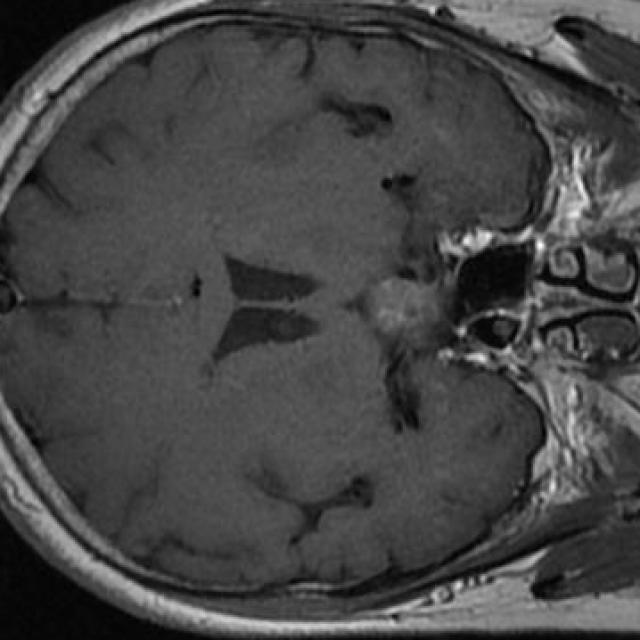pituitary: (364, 282, 442, 335)
